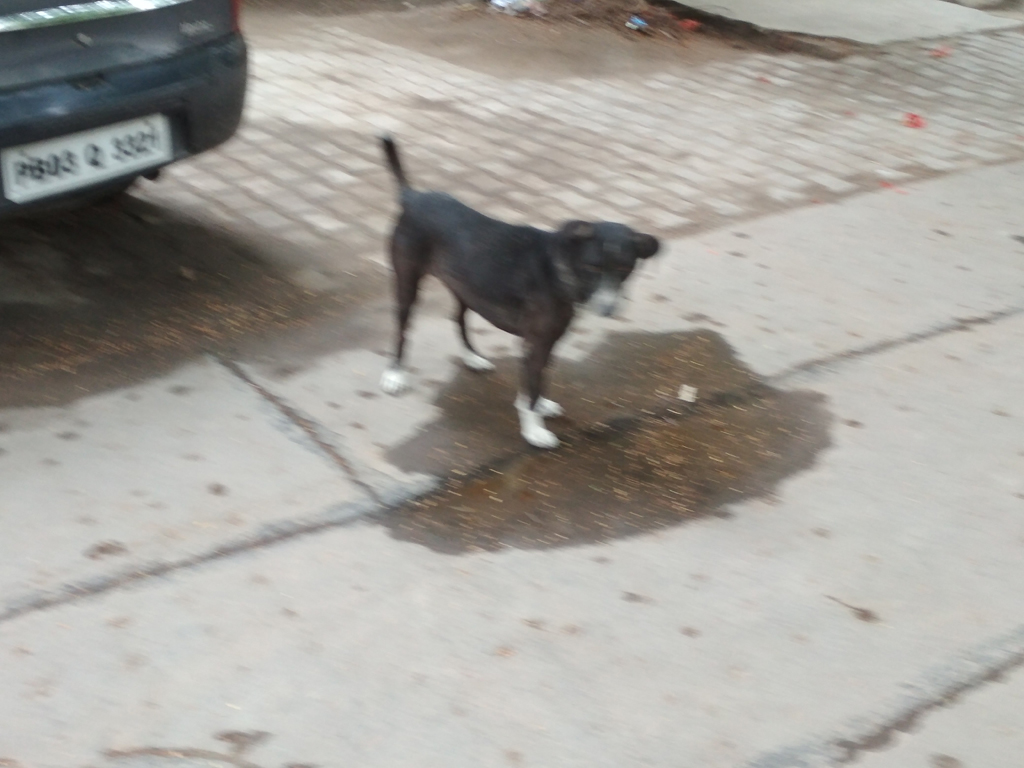dog: (379, 133, 661, 450)
